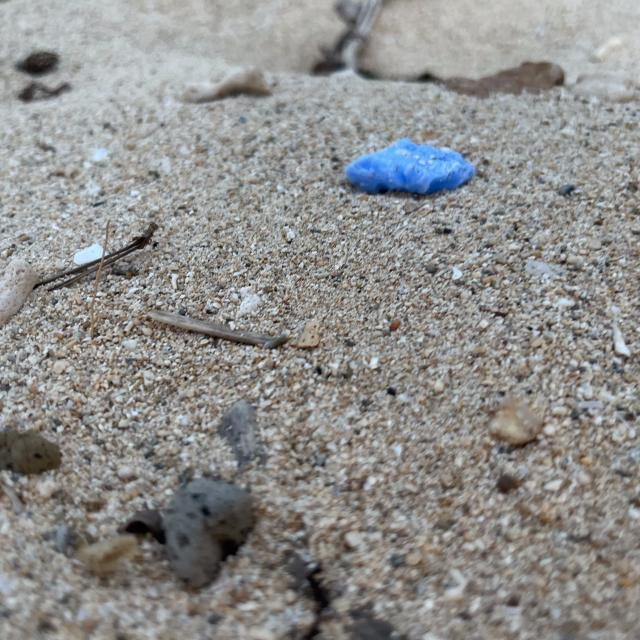trash: (333, 130, 488, 202)
